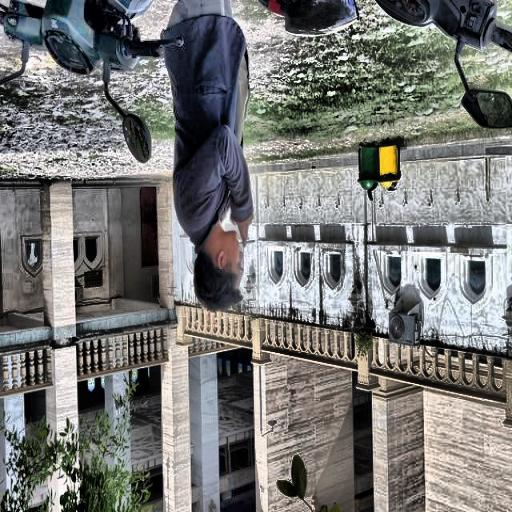Merokok: (239, 240, 255, 245)
Rokok: (203, 219, 256, 288)
